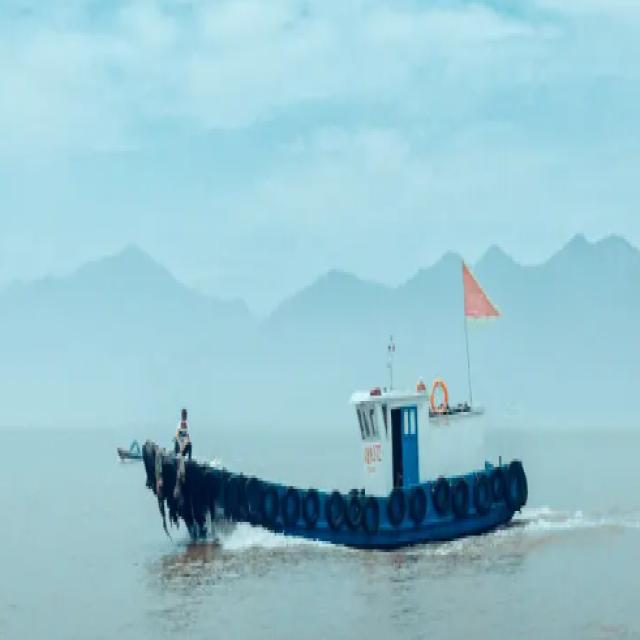fishing boat: (133, 292, 527, 555)
